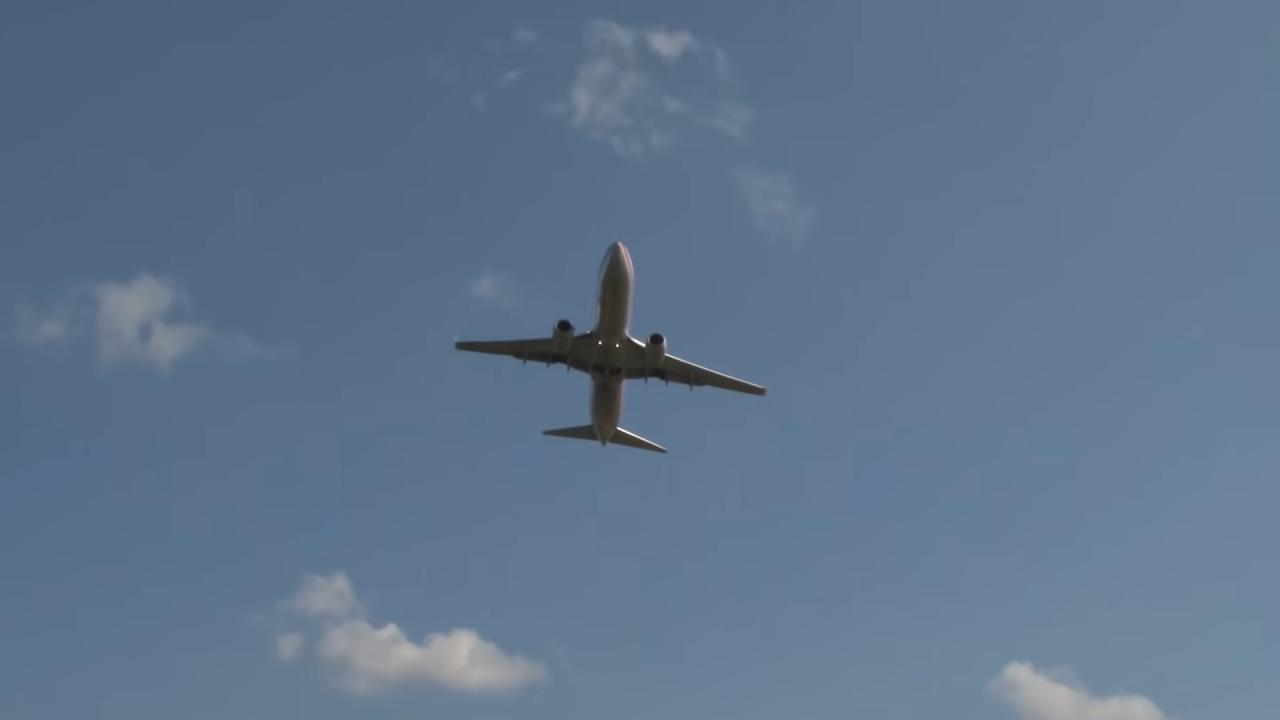Airplane: (442, 230, 780, 468)
